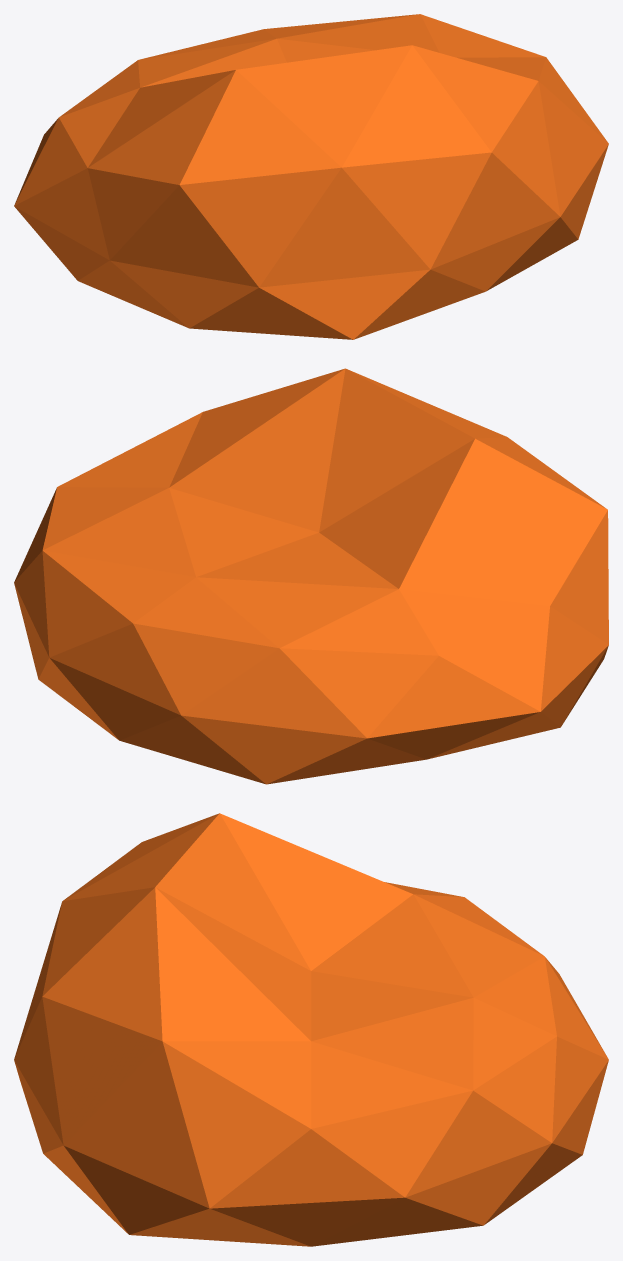
3 renders of one model, top to bottom at view 1: azimuth 30°, elevation 25°; view 2: azimuth 150°, elevation 25°; view 3: azimuth 270°, elevation 25°, orthographic. The views are drawn at different scales.
Parts seen in each view (by area): view 1: bag; view 2: bag; view 3: bag.
Boxes of the visible parts, bbox=[...] form: bag: bbox=[14, 14, 608, 339]; bag: bbox=[14, 368, 608, 784]; bag: bbox=[14, 813, 608, 1246].
Bounding box in the file's own units: 1.22 × 0.51 × 1.06.
